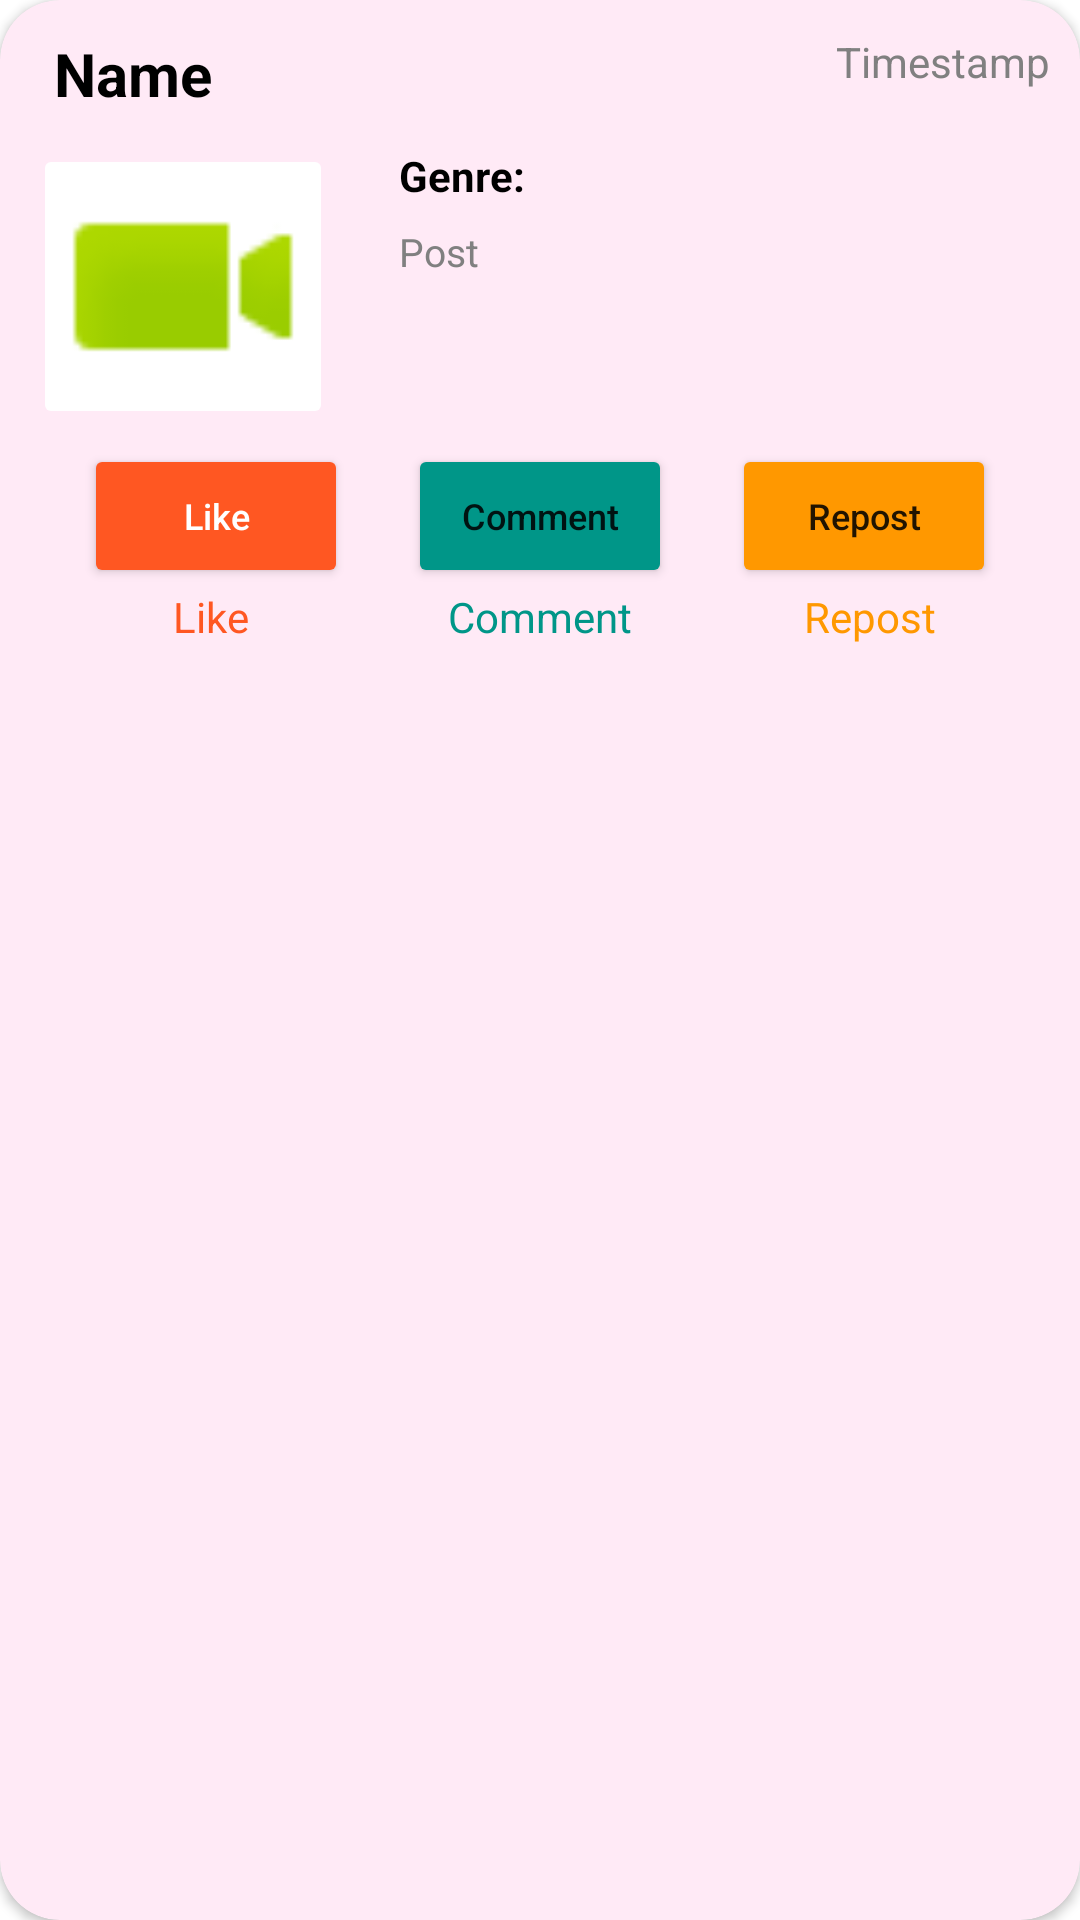

Point at icon controls on the screen. Image size 1080px×1920px, points as (x,y).
presence video online: (183,286)
